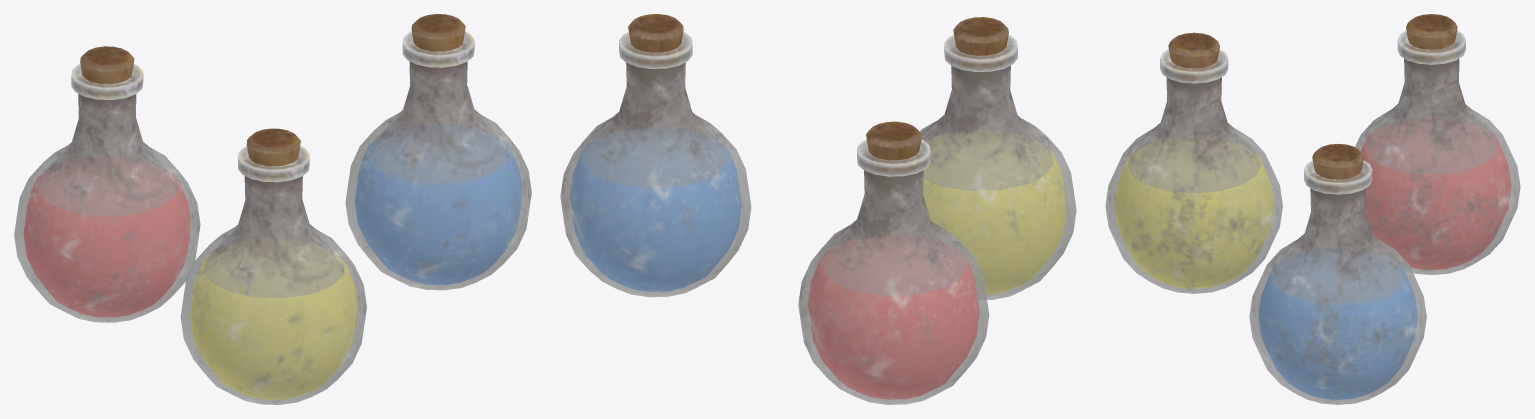
The model's file is potions.glb.
3 renders of one model, left to right at view 1: azimuth 30°, elevation 25°; view 2: azimuth 150°, elevation 25°; view 3: azimuth 270°, elevation 25°, orthographic. The views are drawn at different scales.
Visible parts, largest first — view 1: bottle_v1_low.001_bottle_v1_txtr_0, fluid_v1_low.003_fluid_3_0, fluid_v1_low.002_fluid_2_0; view 2: bottle_v1_low.001_bottle_v1_txtr_0, fluid_v1_low.002_fluid_2_0, fluid_v1_low.003_fluid_3_0; view 3: bottle_v1_low.001_bottle_v1_txtr_0, fluid_v1_low.003_fluid_3_0, fluid_v1_low.002_fluid_2_0.
Boxes of the visible parts, box(x1,y1,x2,y2) form: bottle_v1_low.001_bottle_v1_txtr_0: box(14, 14, 531, 404); fluid_v1_low.003_fluid_3_0: box(355, 131, 521, 284); fluid_v1_low.002_fluid_2_0: box(23, 164, 190, 317); bottle_v1_low.001_bottle_v1_txtr_0: box(560, 14, 1076, 404); fluid_v1_low.002_fluid_2_0: box(808, 246, 979, 399); fluid_v1_low.003_fluid_3_0: box(570, 138, 741, 291); bottle_v1_low.001_bottle_v1_txtr_0: box(1105, 14, 1520, 404); fluid_v1_low.003_fluid_3_0: box(1258, 254, 1417, 399); fluid_v1_low.002_fluid_2_0: box(1361, 125, 1511, 269).
Size of the model in its own units: 5.46 by 2.9 by 4.68.
3 materials, 3 textured.
